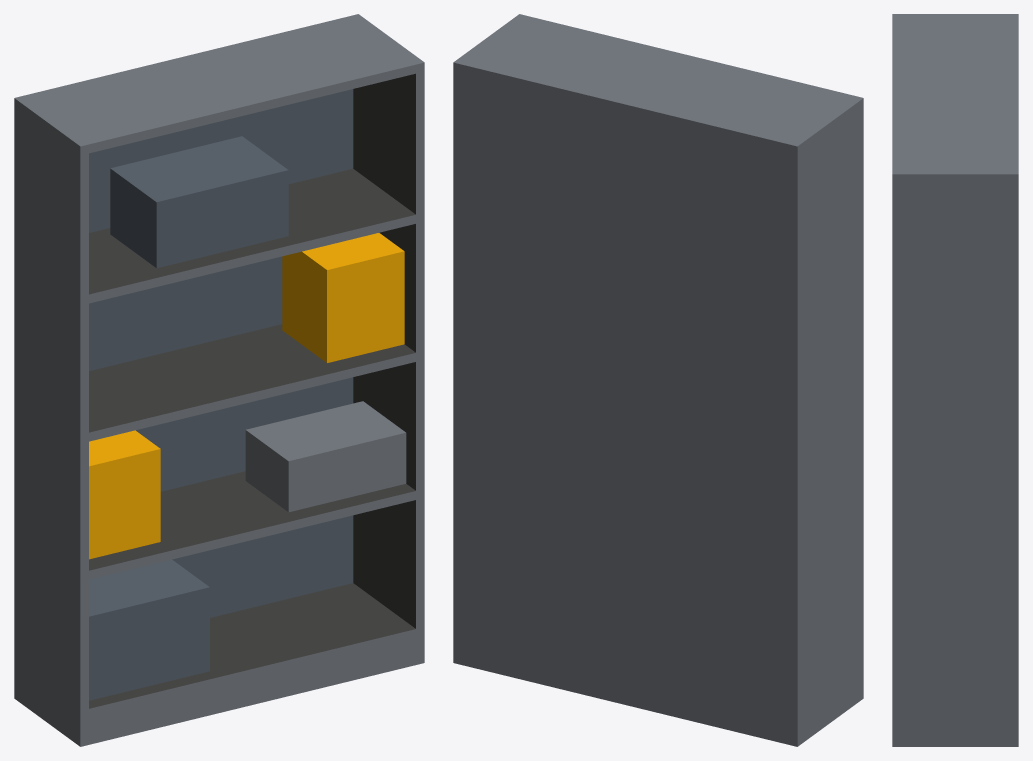
Rendered from shelf.glb.
3 renders of one model, left to right at view 1: azimuth 30°, elevation 25°; view 2: azimuth 150°, elevation 25°; view 3: azimuth 270°, elevation 25°, orthographic. The views are drawn at different scales.
Parts seen in each view (by area): view 1: shelf; view 2: shelf; view 3: shelf.
Part boxes in pixels (x1,y1,x2,y2): shelf: (14,14,424,746); shelf: (453,14,863,746); shelf: (892,14,1018,746).
Size of the model in its own units: 1.2 by 2 by 0.4.
